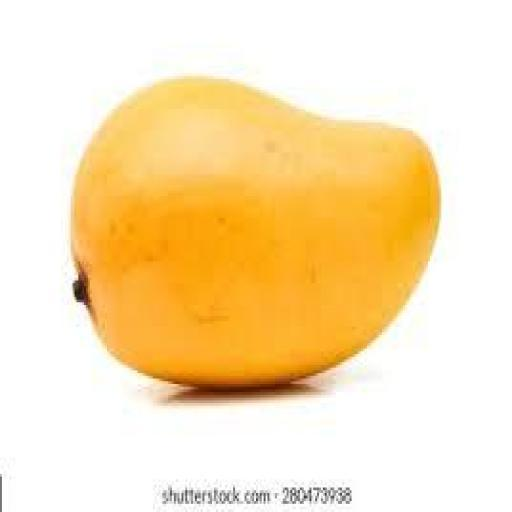mango: (73, 79, 439, 386)
